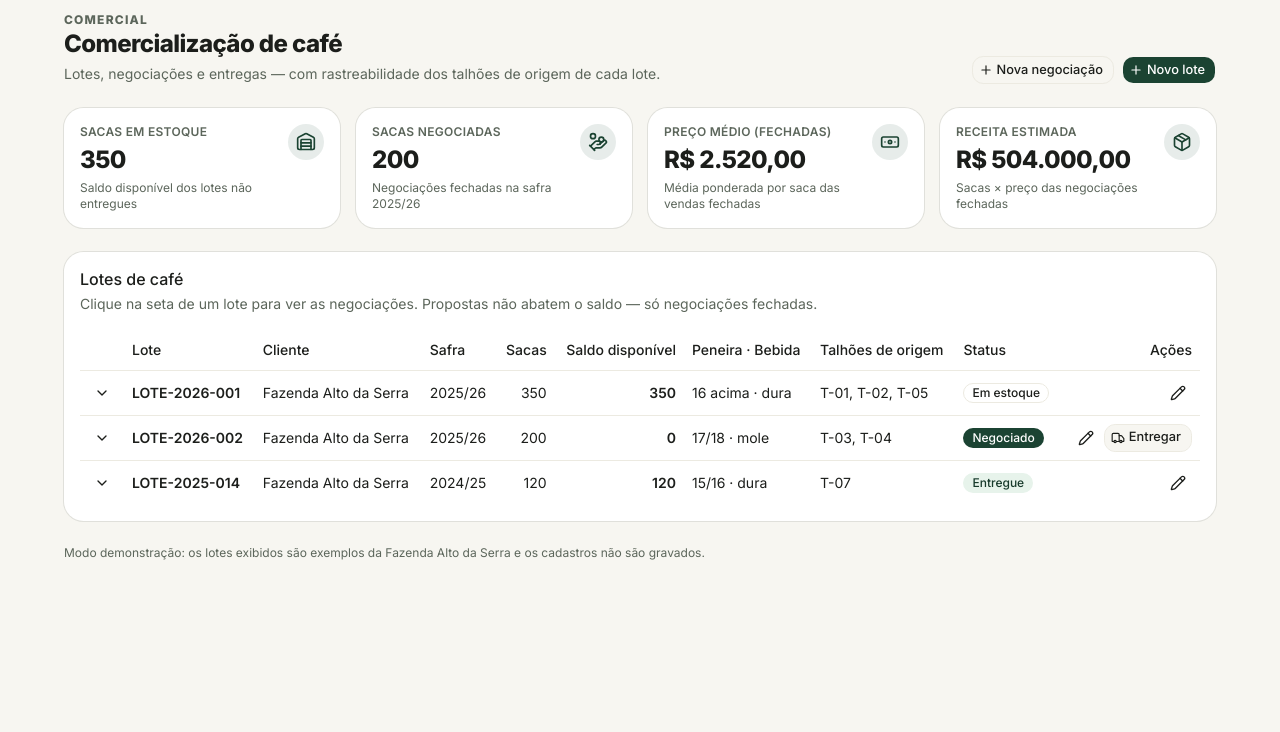
Test case: VisaoComercializacao — tabela de lotes › expande o lote e mostra as negociações com as ações
This screenshot has width=1280, height=732.
Expected: the text "Stockler Exportadora" is not shown
Click the button named "Ver negociações do lote LOTE-2026-001".
click(102, 392)  # box [88,378,116,406]
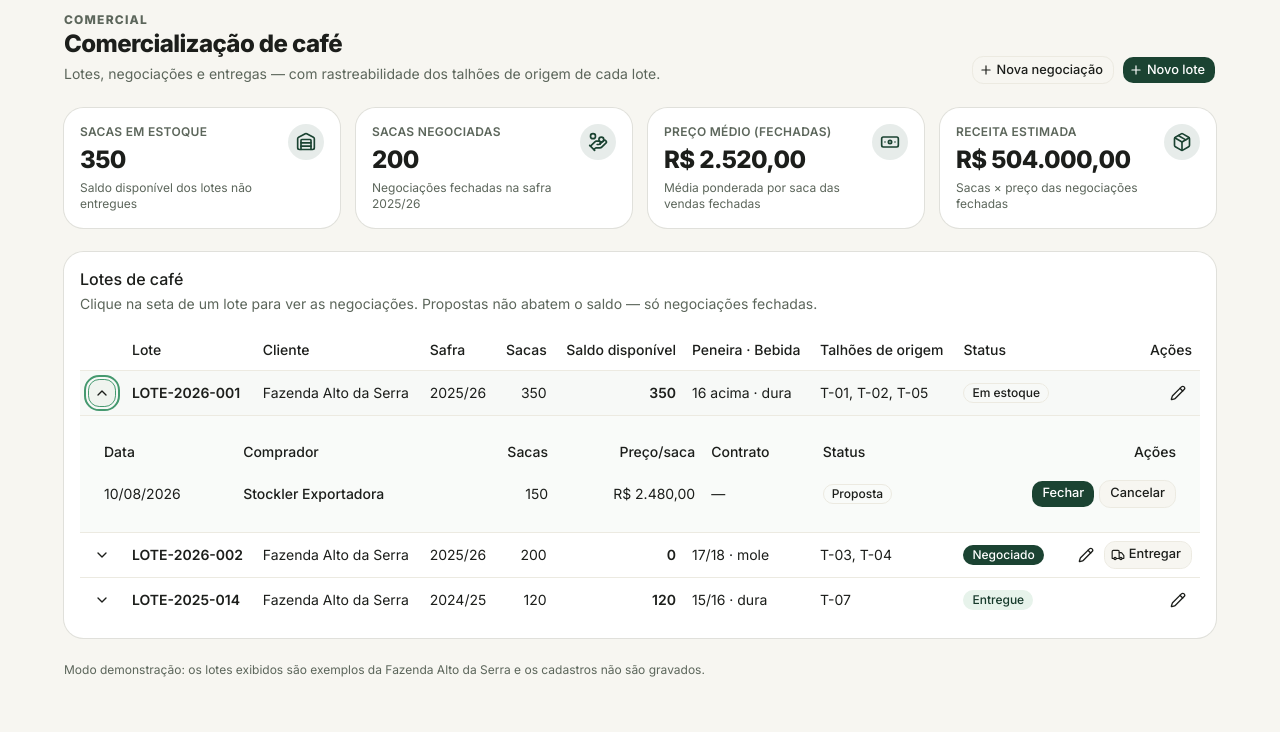
Expected: the text "Stockler Exportadora" is shown, [235,472,471,516]
Expected: the text "Proposta" is shown, [823,484,892,504]
Expected: the button "Fechar" is shown, [1031,480,1095,508]
